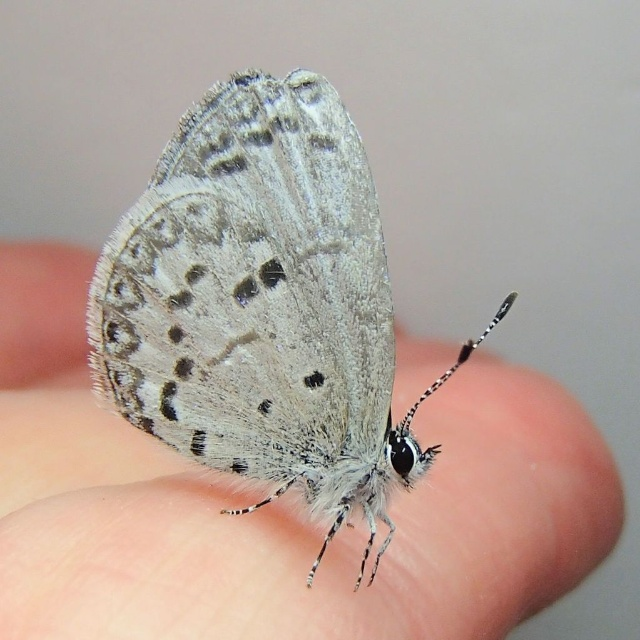Butterfly: (81, 65, 518, 587)
